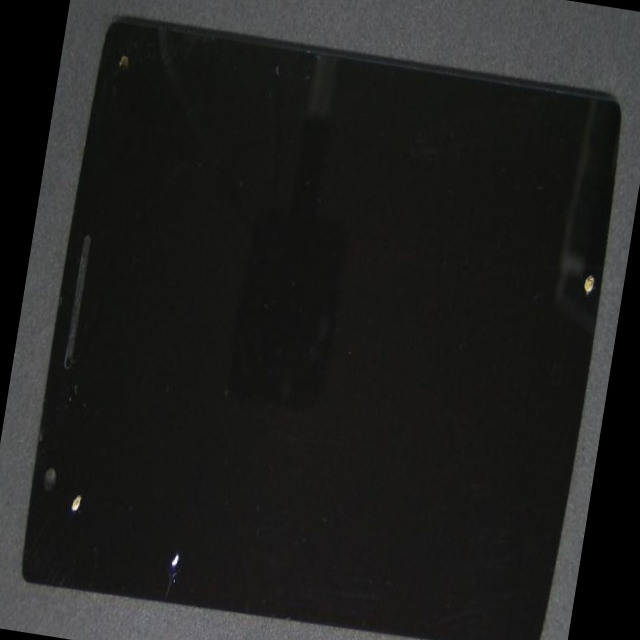stain: (74, 217, 319, 640), (23, 172, 161, 640)
